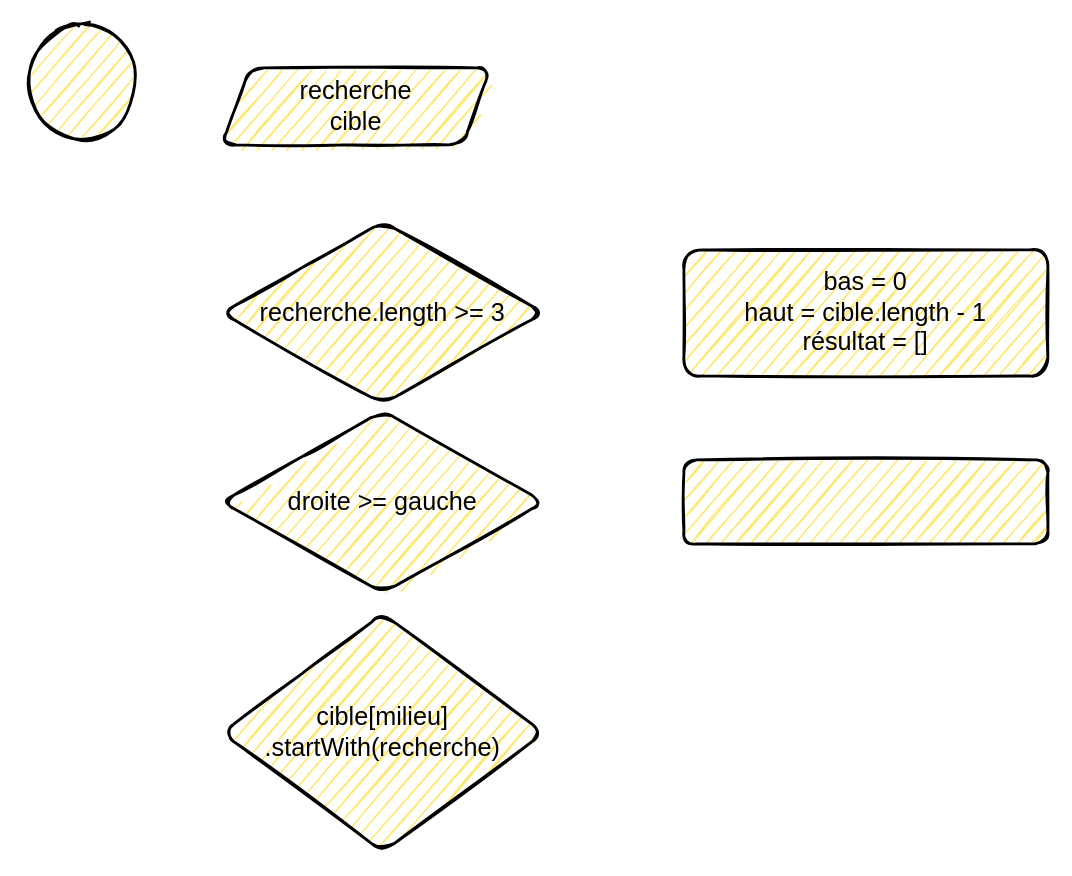
The diagram is 1072 pixels wide and 876 high, and some of its shapes have lost their labels. Each missing label, with the box of its shape:
Début: (24, 24, 139, 139)
milieu = (haut + bas) / 2: (682, 458, 1049, 545)
